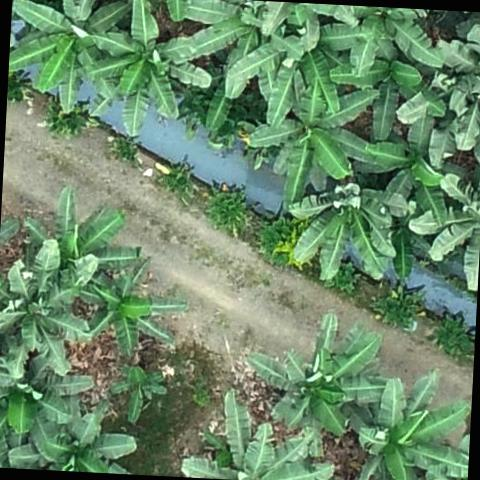Banana-plant: (85, 0, 215, 141), (246, 310, 394, 430), (246, 93, 384, 210), (183, 390, 340, 480), (0, 241, 96, 375), (18, 185, 145, 286), (285, 177, 405, 283), (398, 9, 480, 162), (360, 370, 473, 480), (170, 0, 290, 102), (235, 24, 356, 125), (7, 0, 120, 103), (329, 50, 448, 140), (87, 268, 190, 354), (0, 348, 81, 450), (9, 409, 136, 474), (352, 6, 436, 72), (116, 371, 168, 422)
